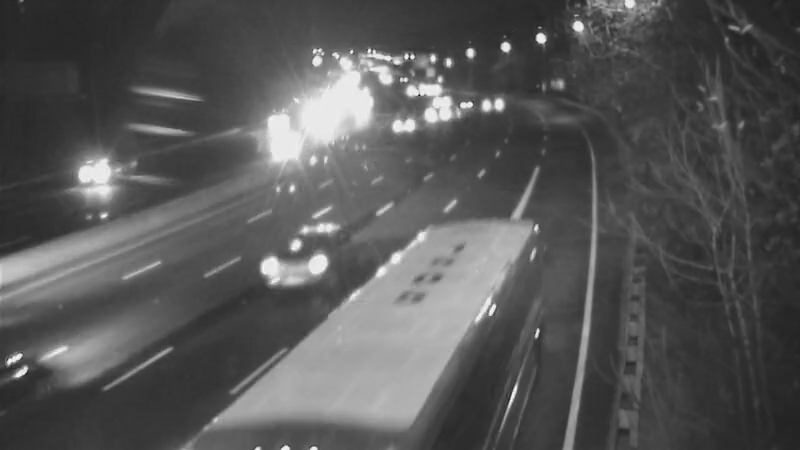vehicle: (394, 260, 504, 370), (258, 224, 338, 304), (48, 130, 128, 210), (474, 73, 524, 123), (415, 86, 465, 136), (381, 98, 431, 148), (251, 95, 301, 145), (256, 112, 306, 162)
